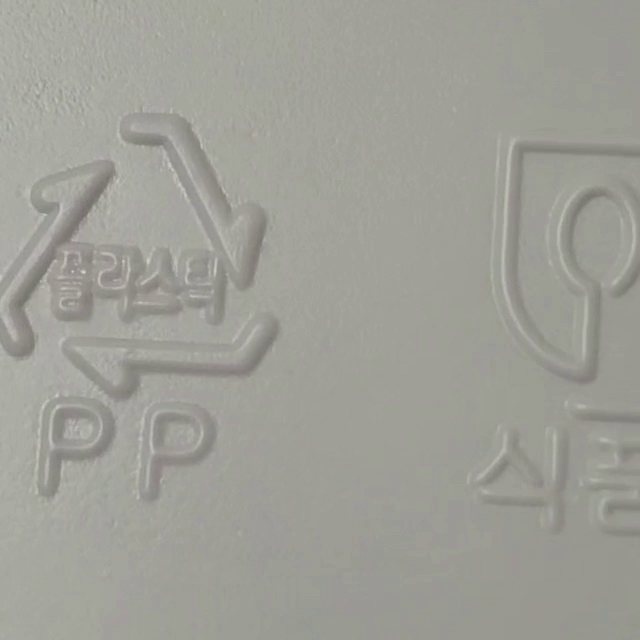Plastic: (0, 107, 281, 390)
